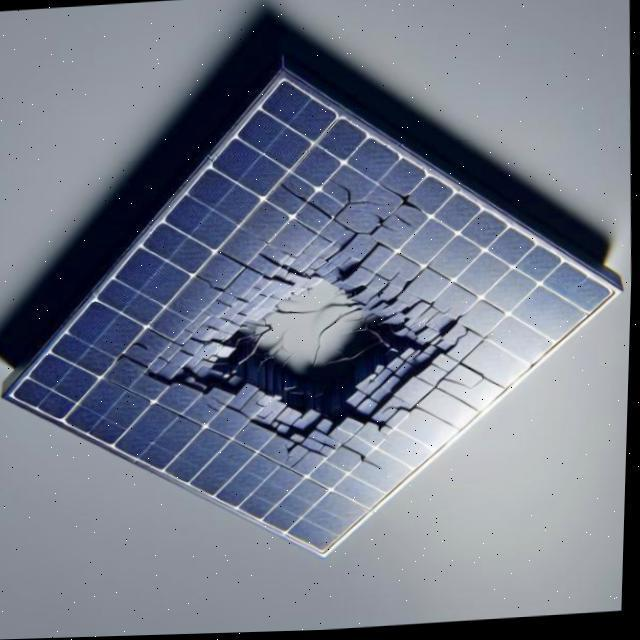Anomaly Solar Panel: (12, 41, 619, 633)
Structural Damage: (143, 196, 492, 499)
